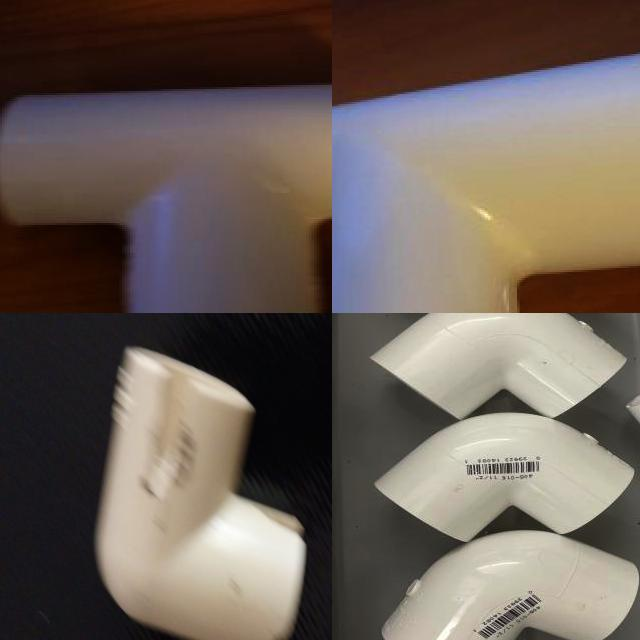L Joint: (109, 353, 332, 640), (373, 413, 635, 543), (381, 532, 640, 640), (369, 313, 627, 421)
